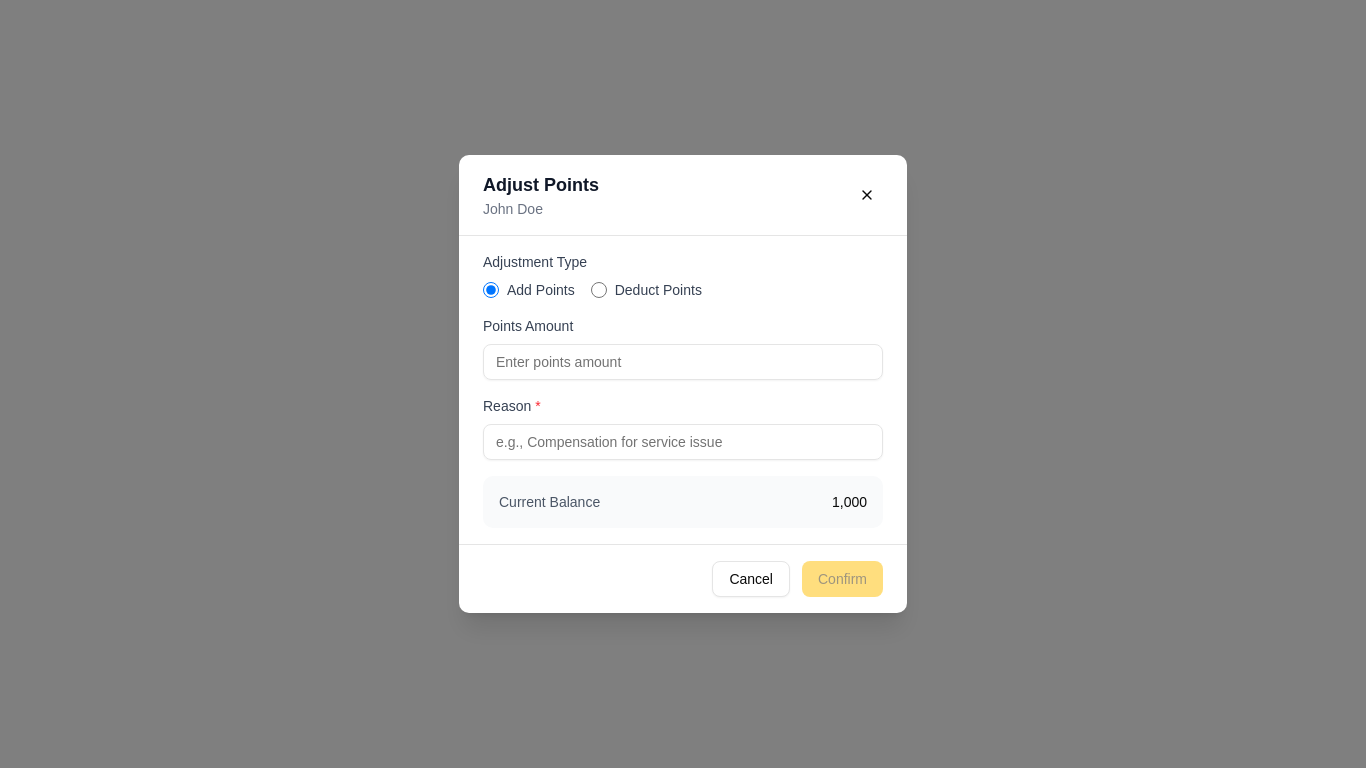
Scenario: AdjustPointsModal › Balance Preview › should show new balance when deducting points
The image size is (1366, 768).
Click the radio button labelled "Deduct Points": {"x": 599, "y": 290} [591,282,607,298]
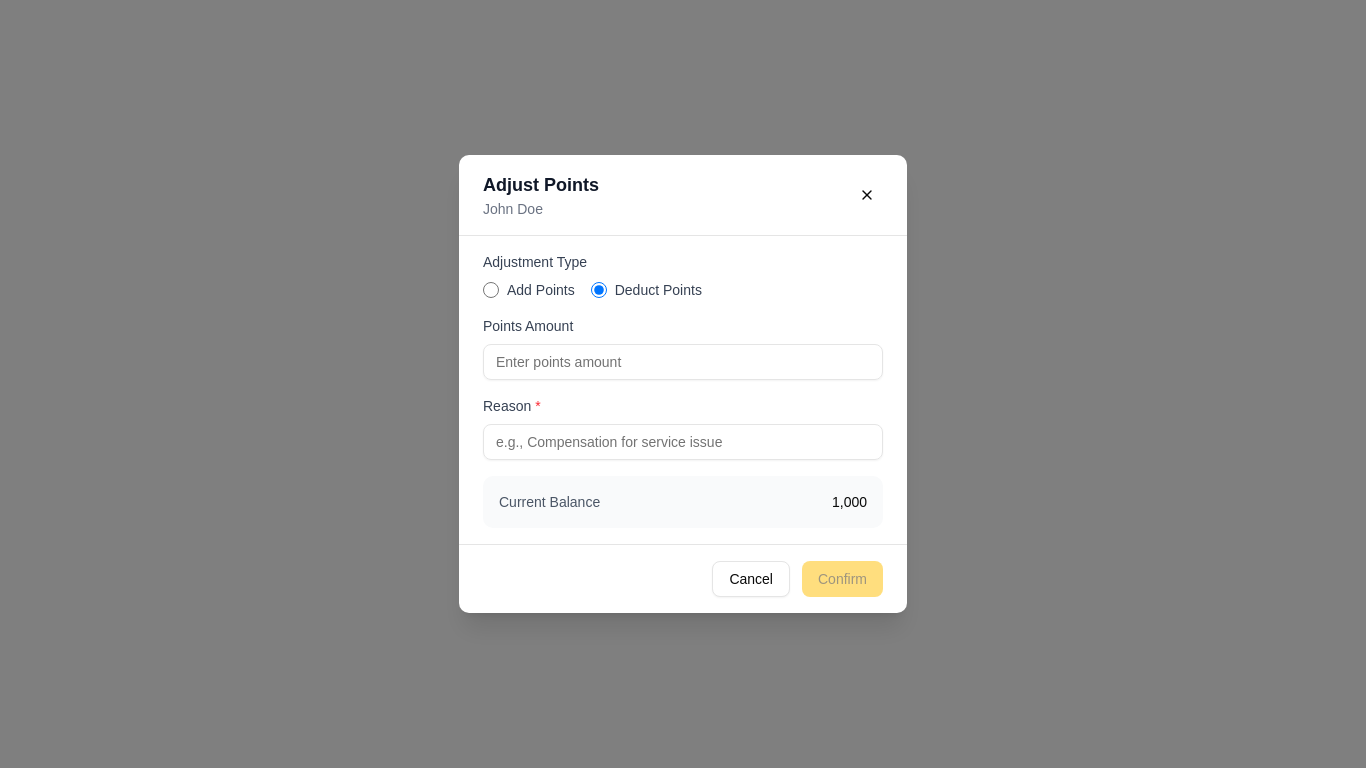
In the field with placeholder "Enter points amount": {"x": 683, "y": 362} [483,344,883,380], type "300"
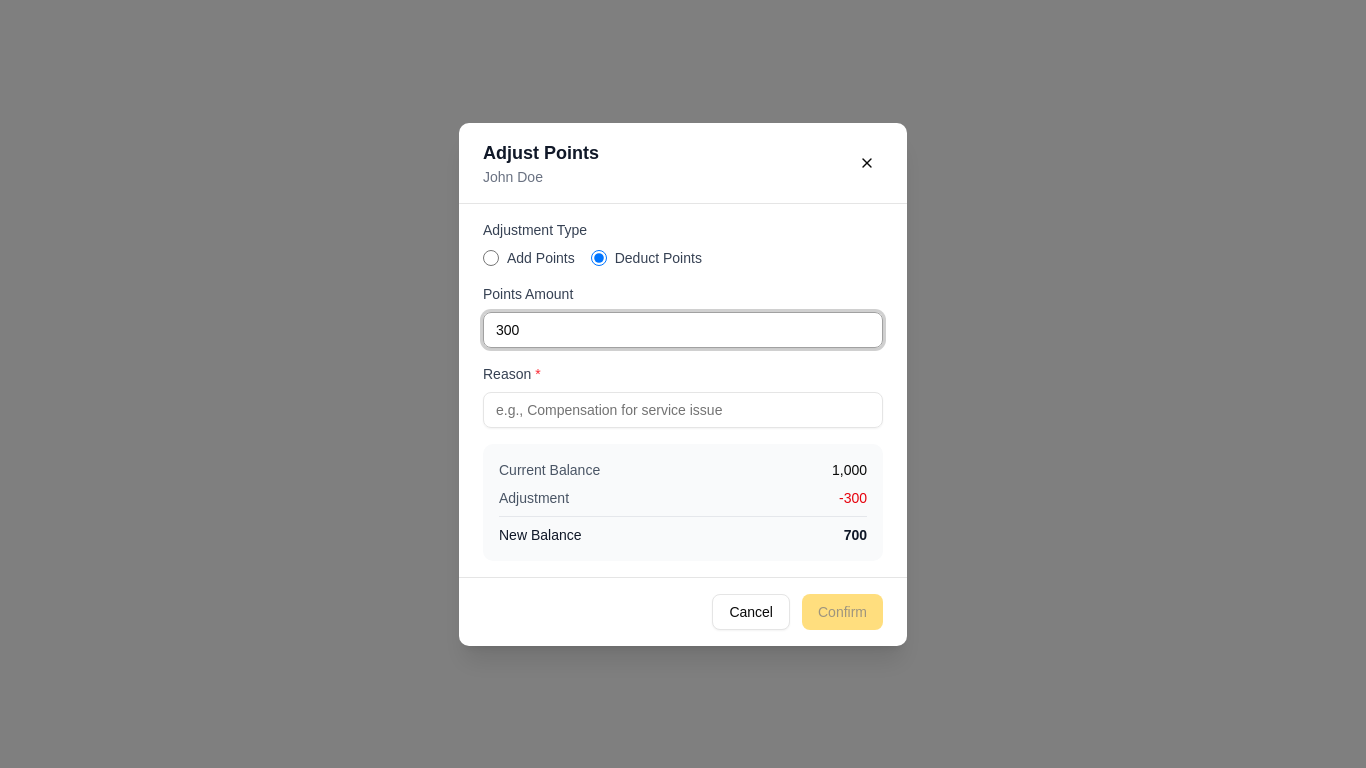
Now the text "-300" is shown, box [839,488,867,508]
Now the text "700" is shown, box [844,524,867,544]
